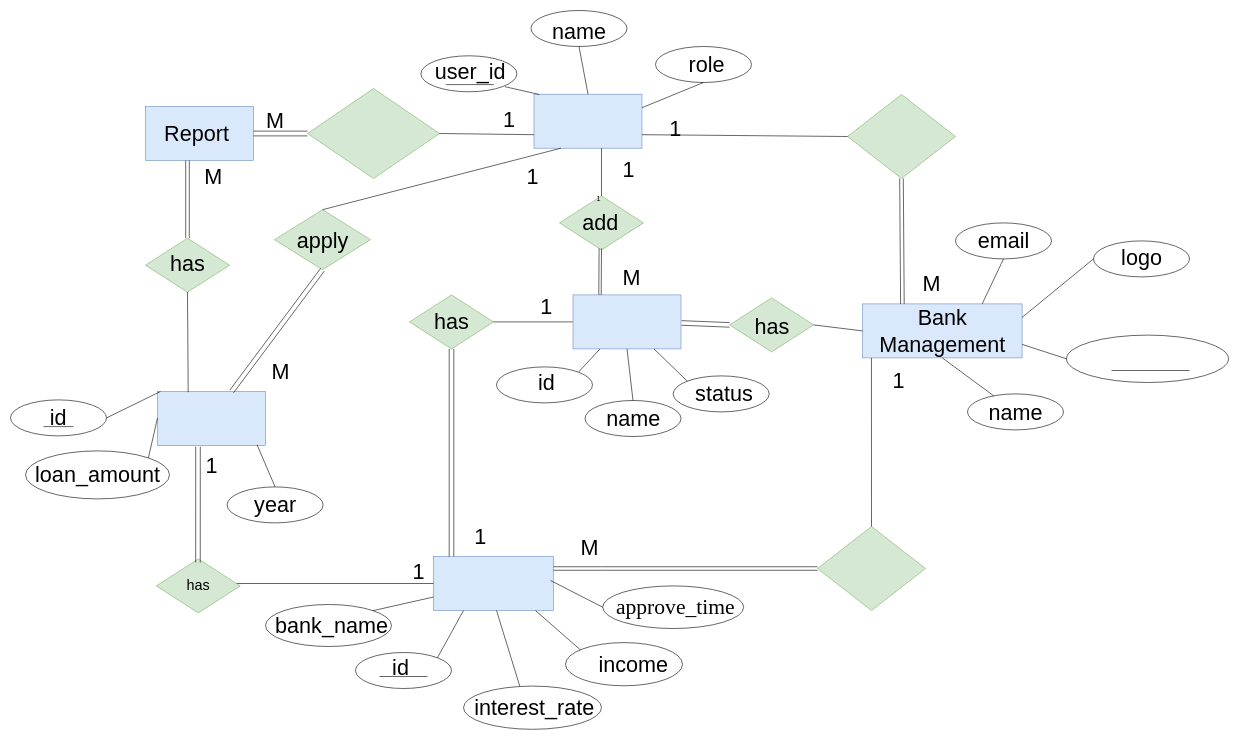
The diagram is 1239 pixels wide and 740 high, and some of its shapes have lost their labels. Here are the shapes that lost their labels. From the top down, the box of each, then its label:
(307, 88, 440, 178): generate
(533, 94, 642, 148): User
(847, 94, 956, 178): manage
(572, 294, 681, 349): Loan Type
(1066, 334, 1228, 382): bank_id
(157, 391, 266, 446): Booking
(433, 556, 554, 610): loan Setup
(817, 526, 926, 610): maintain
